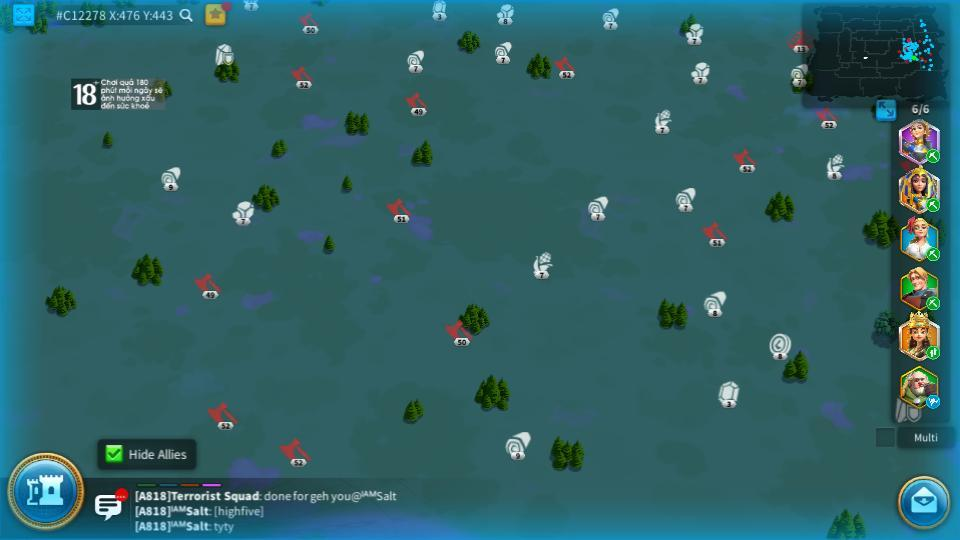gem-z-out: (716, 380, 740, 407)
march_farming: (926, 297, 941, 308)
march_idle: (925, 395, 942, 407)
march_marching: (925, 345, 941, 359), (924, 149, 939, 162)
